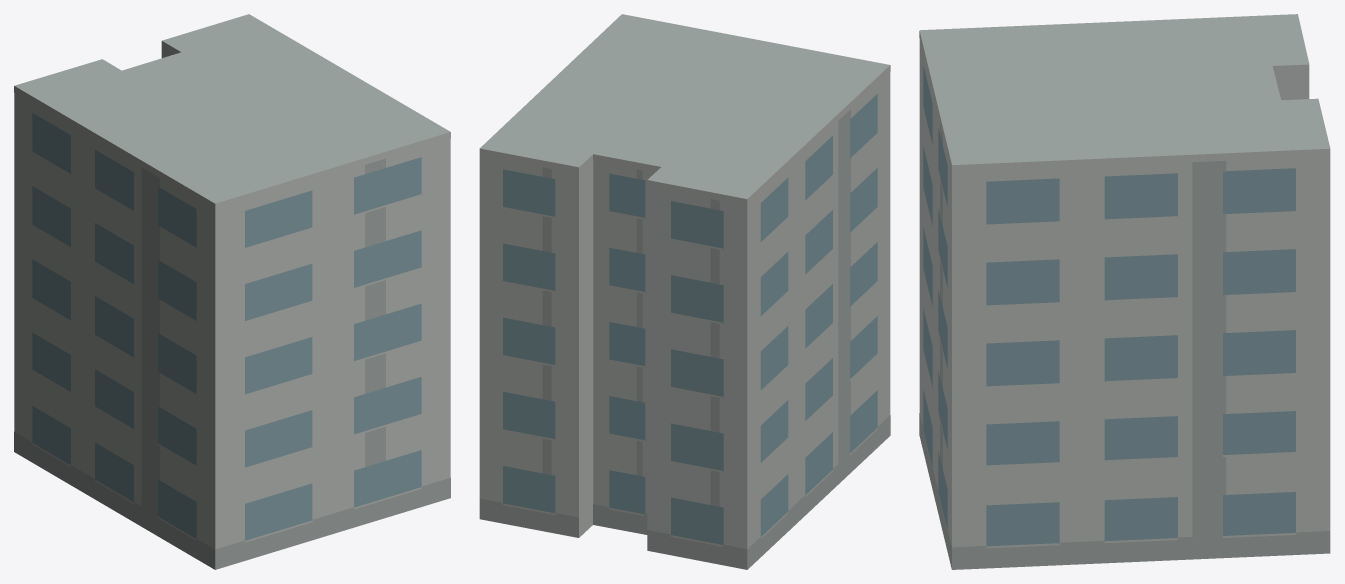
Rendered from survey-upis-32631024.glb.
3 views of the same model, side by side, from view 1: azimuth 30°, elevation 25°; view 2: azimuth 150°, elevation 25°; view 3: azimuth 270°, elevation 25° (orthographic). The views are drawn at different scales.
Visible parts, largest first — view 1: survey-upis-32631024.tmp; view 2: survey-upis-32631024.tmp; view 3: survey-upis-32631024.tmp.
Part boxes in pixels (x1,y1,x2,y2): survey-upis-32631024.tmp: [14, 14, 450, 569]; survey-upis-32631024.tmp: [479, 14, 890, 569]; survey-upis-32631024.tmp: [919, 14, 1330, 569].
Bounding box in the file's own units: 10.5 × 13.1 × 12.07.
